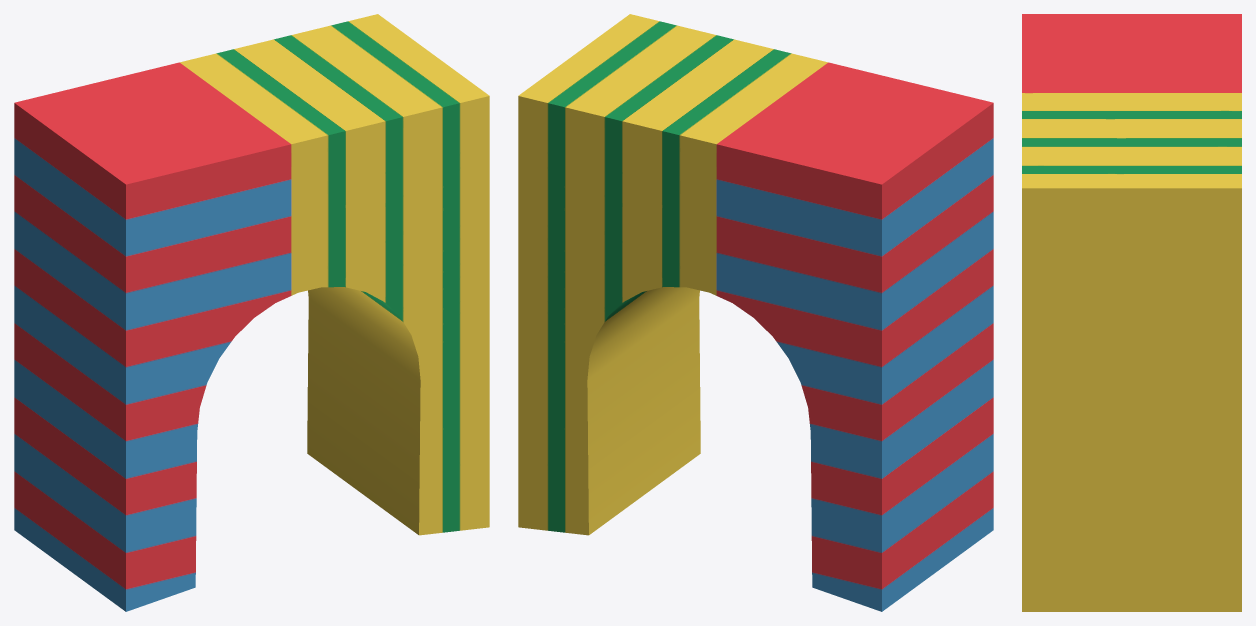
File: M_bridge_01.fbx
3 renders of one model, left to right at view 1: azimuth 30°, elevation 25°; view 2: azimuth 150°, elevation 25°; view 3: azimuth 270°, elevation 25°, orthographic.
Visible parts, largest first — view 1: Cube.004; view 2: Cube.004; view 3: Cube.004.
Boxes of the visible parts, bbox=[...] form: Cube.004: bbox=[14, 14, 489, 611]; Cube.004: bbox=[518, 14, 993, 611]; Cube.004: bbox=[1022, 14, 1241, 611].
Size of the model in its own units: 353 by 400 by 188.
